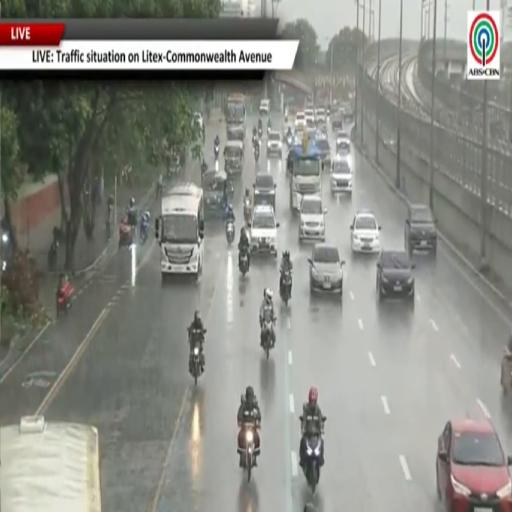bus: (0, 415, 101, 511), (155, 184, 204, 278), (289, 141, 323, 211), (225, 93, 246, 125)
car: (436, 418, 511, 511), (377, 250, 414, 307), (309, 243, 344, 296), (405, 204, 437, 255), (249, 205, 279, 257), (299, 196, 327, 241), (351, 212, 380, 253), (330, 155, 353, 195), (254, 171, 276, 211), (316, 134, 331, 168), (267, 131, 282, 157), (192, 111, 205, 138), (336, 131, 350, 155), (331, 112, 343, 131), (295, 112, 306, 131), (304, 108, 314, 125), (315, 108, 326, 123), (259, 100, 269, 116), (294, 131, 303, 145)
motorcycle: (303, 435, 323, 493), (242, 423, 258, 482), (189, 330, 205, 385), (56, 280, 74, 316), (261, 318, 273, 359), (191, 345, 202, 385), (280, 269, 291, 306), (48, 239, 59, 271), (126, 207, 138, 232), (140, 217, 150, 244), (239, 250, 248, 276), (106, 205, 112, 241), (226, 219, 234, 244), (244, 197, 251, 223), (254, 144, 260, 163), (156, 183, 163, 198), (214, 144, 220, 159), (287, 134, 293, 149), (215, 159, 219, 172), (258, 127, 262, 138), (267, 125, 271, 134)
tricycle: (56, 275, 74, 316), (119, 218, 133, 248)
